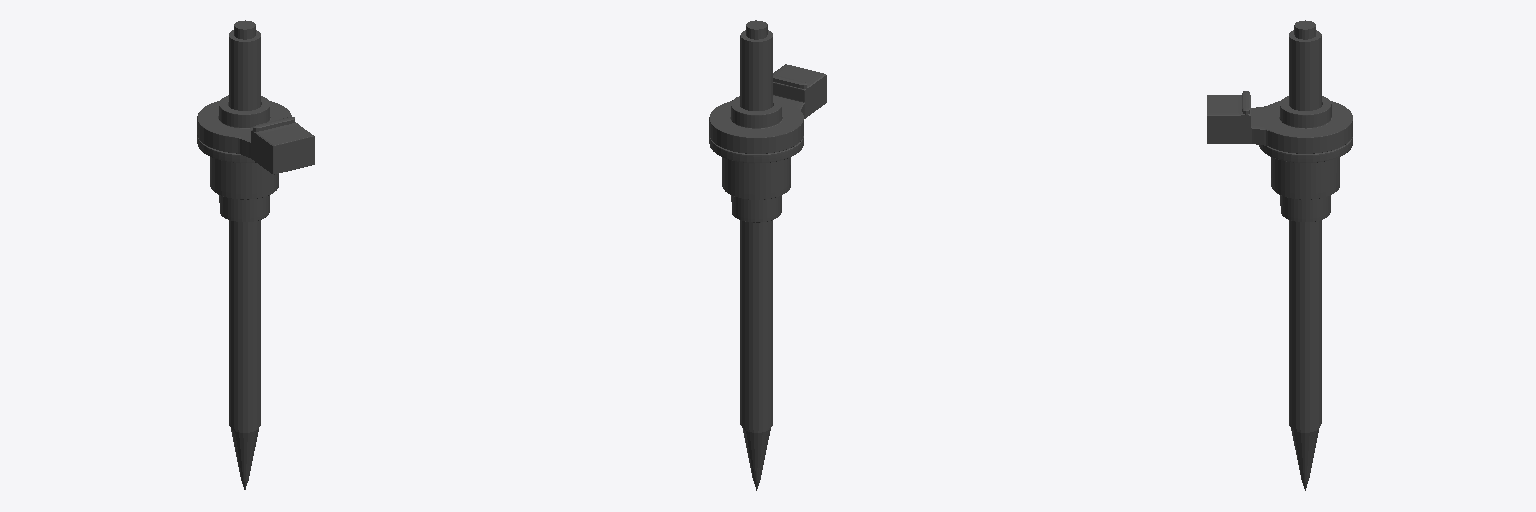
robot.urdf — magician:
<robot name="magician">

    <!-- Defining the colors used in this robot -->
    <material name="Black">
        <color rgba="0 0 0 1"/>
    </material>

    <material name="White">
        <color rgba="1 1 1 1"/>
    </material>

    <material name="Grey">
        <color rgba="0.9 0.9 0.9 1"/>
    </material>

    <!--  -->
    <link name="base_link">
        <visual>
            <origin xyz="0 0 0" rpy="0 0 0"/>
            <geometry>
                <mesh filename="package://magician/meshes/base_link.STL"/>
            </geometry>
            <material name="White"/>
        </visual>
        <collision>
            <origin xyz="0 0 0" rpy="0 0 0"/>
            <geometry>
                <mesh filename="package://magician/meshes/base_link.STL"/>
            </geometry>
        </collision>
    </link>

    <joint name="joint_1" type ="revolute">
        <origin xyz="0 0 0.024" rpy="0 0 0"/>
        <parent link="base_link"/>
        <child link="link_1"/>
        <axis xyz="0 0 1"/>
        <limit effort="150.0" lower="-3.14159265" upper="3.14159265" velocity="3.15"/>
    </joint>

    <link name="link_1">
        <visual>
            <origin xyz="0 0 0" rpy="0 0 0"/>
            <geometry>
                <mesh filename="package://magician/meshes/link_1.dae"/>
            </geometry>
        </visual>
        <collision>
            <origin xyz="0 0 0" rpy="0 0 0"/>
            <geometry>
                <mesh filename="package://magician/meshes/link_1.STL"/>
            </geometry>
        </collision>
    </link>

    
    <joint name="joint_2" type="revolute">
        <origin xyz="-0.01175 0 0.114" rpy="1.570796325 0 -1.570796325"/>
        <parent link="link_1"/>
        <child link="link_2"/>
        <axis xyz="0 0 1"/>
        <limit effort="150.0" lower="0" upper="1.570796325" velocity="3.15"/>
    </joint>

    <link name="link_2">
        <visual>
            <origin xyz="0 0 0" rpy="0 0 0"/>
            <geometry>
                <mesh filename="package://magician/meshes/link_2.dae"/>
            </geometry>
        </visual>
        <collision>
            <origin xyz="0 0 0" rpy="0 0 0"/>
            <geometry>
                <mesh filename="package://magician/meshes/link_2.STL"/>
            </geometry>
        </collision>
    </link>

    <joint name="joint_5" type ="revolute">
        <origin xyz="0.02699 0.13228 -0.01175" rpy="0 3.14159265 0"/>
        <parent link="link_2"/>
        <child link="link_5"/>
        <axis xyz="0 0 1"/>
        <limit effort="150.0" lower="0" upper="1.570796325" velocity="3.15"/>
    </joint>

    <link name="link_5">
        <visual>
            <origin xyz="0 0 0" rpy="0 0 0"/>
            <geometry>
                <mesh filename="package://magician/meshes/link_5.dae"/>
            </geometry>
        </visual>
        <collision>
            <origin xyz="0 0 0" rpy="0 0 0"/>
            <geometry>
                <mesh filename="package://magician/meshes/link_5.STL"/>
            </geometry>
        </collision>
    </link>

    <joint name="joint_6" type ="revolute">
        <origin xyz="0.07431 -0.12684 0.0" rpy="0 3.14159265 0"/>
        <parent link="link_5"/>
        <child link="link_6"/>
        <axis xyz="0 0 1"/>
        <limit effort="150.0" lower="-3.14159265" upper="3.14159265" velocity="3.15"/>

    </joint>

    <link name="link_6">
        <visual>
            <origin xyz="0 0 0" rpy="0 0 0"/>
            <geometry>
                <mesh filename="package://magician/meshes/link_6.STL"/>
            </geometry>
        </visual>
        <collision>
            <origin xyz="0 0 0" rpy="0 0 0"/>
            <geometry>
                <mesh filename="package://magician/meshes/link_6.STL"/>
            </geometry>
        </collision>
    </link>

    <joint name="joint_pen" type ="fixed">
        <origin xyz="-0.06 0.0 0" rpy="-1.570796325 -1.570796325 0"/>
        <parent link="link_6"/>
        <child link="link_pen"/>
        <axis xyz="0 0 1"/>
        <limit effort="150.0" lower="0" upper="1.570796325" velocity="3.15"/>
    </joint>

    <link name="link_pen">
        <visual>
            <origin xyz="0 0 0" rpy="0 0 0"/>
            <geometry>
                <mesh filename="package://magician/meshes/bi.dae"/>
            </geometry>
        </visual>
    </link>

    <joint name="joint_pen_end" type ="fixed">
        <origin xyz="0 0.0 -0.098" rpy="0 0 0"/>
        <parent link="link_pen"/>
        <child link="end_link"/>
        <axis xyz="0 0 1"/>
        <limit effort="150.0" lower="0" upper="1.570796325" velocity="3.15"/>
    </joint>

    <link name="end_link">
    </link>

</robot>  

--- Facts derived from the render (not from the file) ---
The picture shows the robot from 3 angles, left to right: view 1: azimuth 30°, elevation 25°; view 2: azimuth 150°, elevation 25°; view 3: azimuth 270°, elevation 25°; orthographic projection.
Model magician with 7 links and 6 joints (4 revolute, 2 fixed), rooted at base_link, posed all joints at 0.
Visible links, largest first — view 1: link_pen; view 2: link_pen; view 3: link_pen.
Boxes of the visible links, box(x1,y1,x2,y2) form: link_pen: box(197, 20, 314, 489); link_pen: box(709, 20, 826, 490); link_pen: box(1207, 20, 1352, 490).
Size in the robot's own frame: 0.0232 by 0.0357 by 0.1257 metres.
1 mesh visuals loaded from 6 distinct referenced files (1 Collada DAE); not drawn: 5 (reference not matched to a file when rendering).